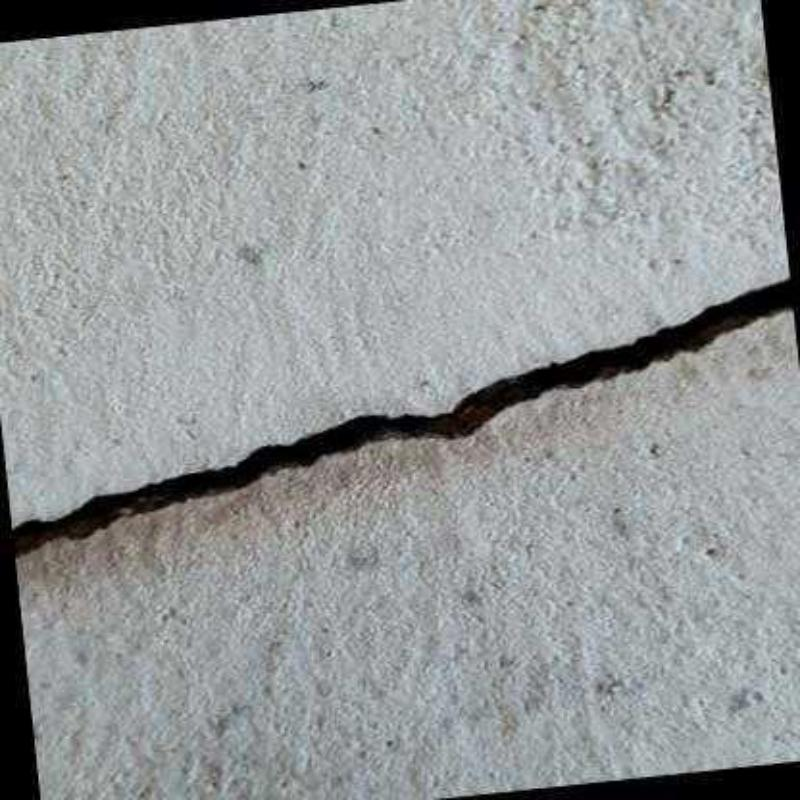pothole: (10, 266, 793, 560)
